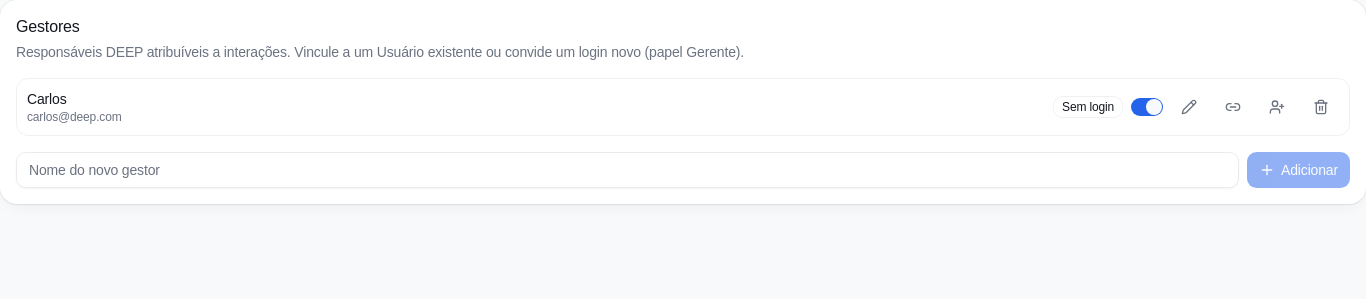
Scenario: ManagersSettings › exibe a mensagem real de erro quando o convite falha (sem crash)
Click the button named "Convidar Carlos como usuário".
click(1277, 107)  # box [1259,89,1295,125]
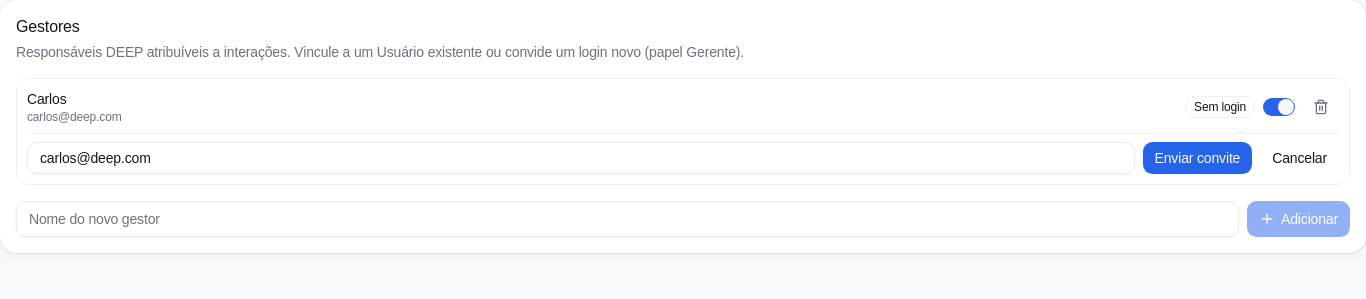
Click the button "Enviar convite".
click(1197, 158)  # box [1142,142,1252,174]
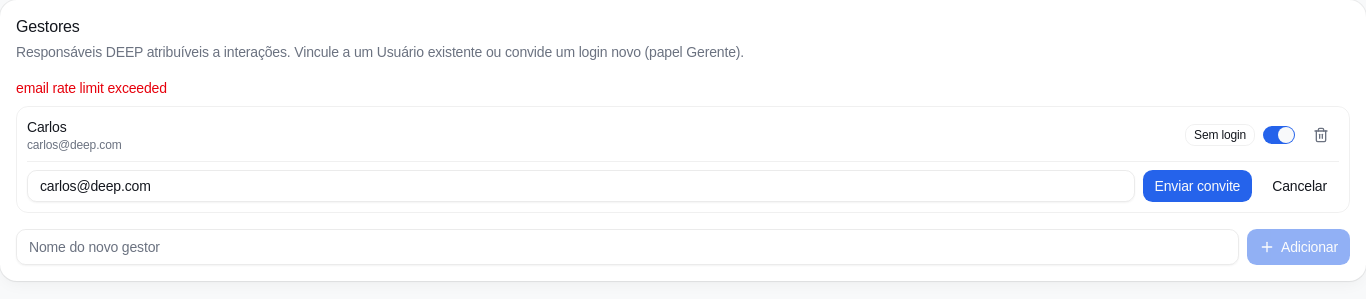
expect the message reads "email rate limit exceeded": met, box [16,80,167,96]
